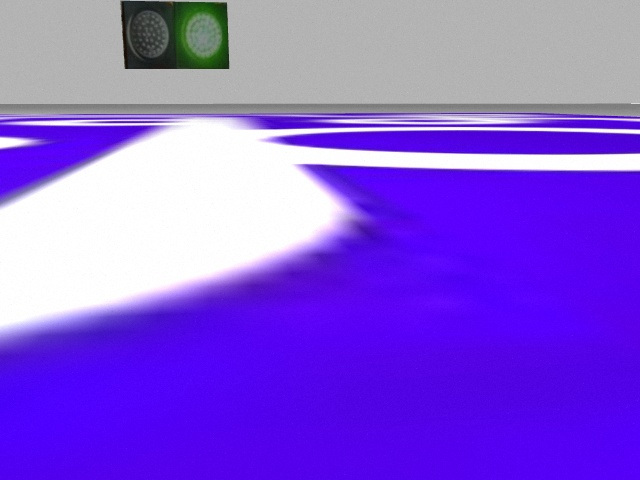green: (176, 2, 229, 70)
